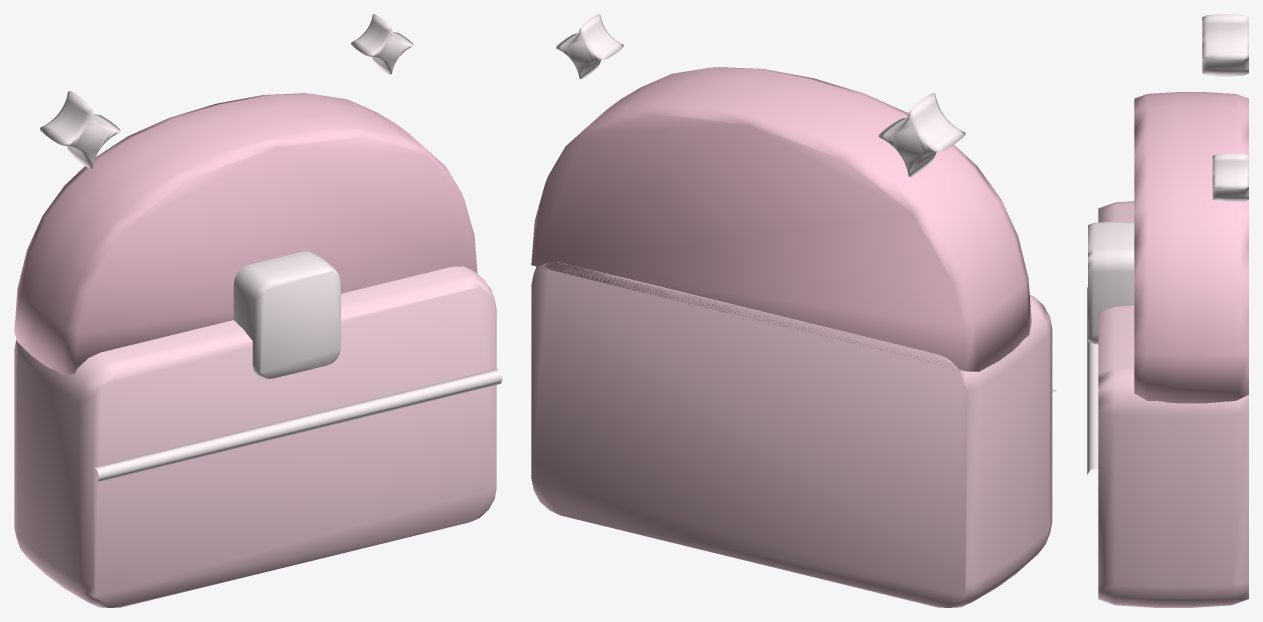
Rendered from decor_4_candy.glb.
The picture shows the model from 3 angles, left to right: view 1: azimuth 30°, elevation 25°; view 2: azimuth 150°, elevation 25°; view 3: azimuth 270°, elevation 25°; orthographic projection. The views are drawn at different scales.
Parts seen in each view (by area): view 1: decor_4_candy; view 2: decor_4_candy; view 3: decor_4_candy.
Boxes of the visible parts, x1,y1,x2,y2 form: decor_4_candy: (14, 14, 502, 607); decor_4_candy: (531, 14, 1056, 607); decor_4_candy: (1087, 14, 1248, 607).
Bounding box in the file's own units: 9.35 × 9.92 × 3.29.
